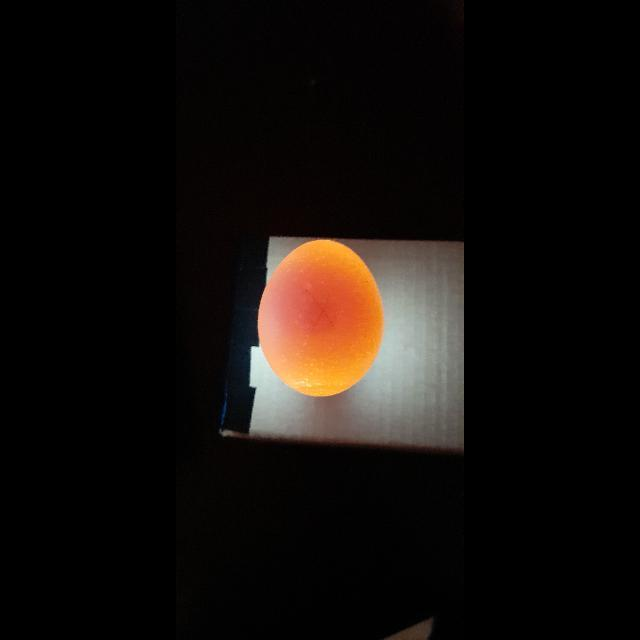Fertile: (257, 237, 383, 401)
